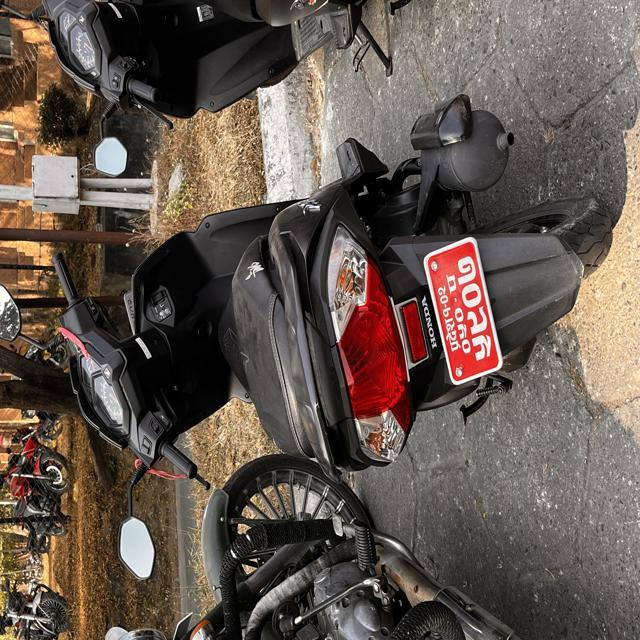license_plate: (417, 232, 518, 386)
